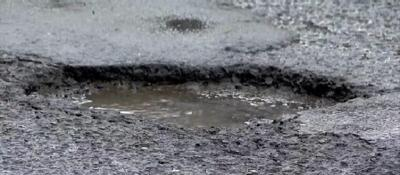Pothole: (19, 58, 361, 132), (149, 10, 218, 40)
